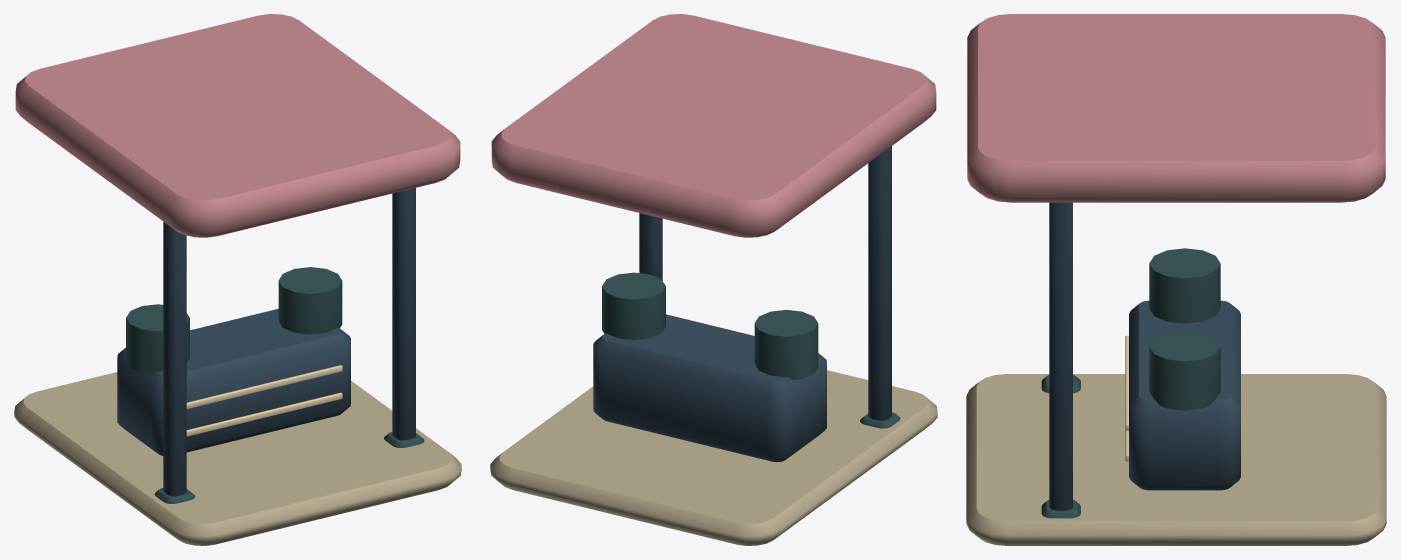
File: luxury_dealership_2.glb
The picture shows the model from 3 angles, left to right: view 1: azimuth 30°, elevation 25°; view 2: azimuth 150°, elevation 25°; view 3: azimuth 270°, elevation 25°; orthographic projection. The views are drawn at different scales.
Visible parts, largest first — view 1: LuxuryDealership2; view 2: LuxuryDealership2; view 3: LuxuryDealership2.
Part boxes in pixels (x1,y1,x2,y2): LuxuryDealership2: [14, 14, 461, 545]; LuxuryDealership2: [490, 14, 937, 545]; LuxuryDealership2: [966, 14, 1386, 545].
Bounding box in the file's own units: 2.18 × 2.51 × 2.48.
